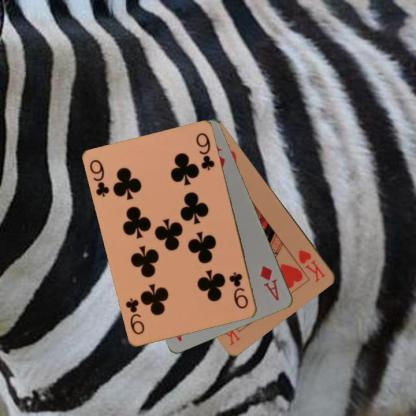9c: (87, 156, 111, 198), (226, 270, 249, 310)
Ad: (258, 262, 280, 302)
Kh: (296, 246, 327, 284)
